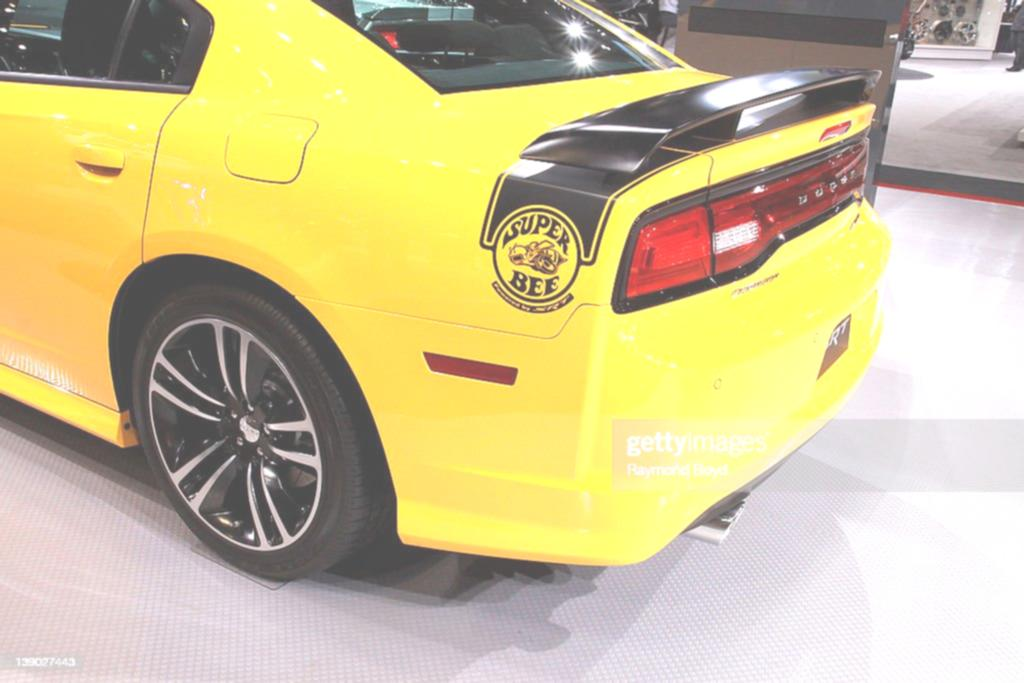dodge: (795, 160, 861, 211)
